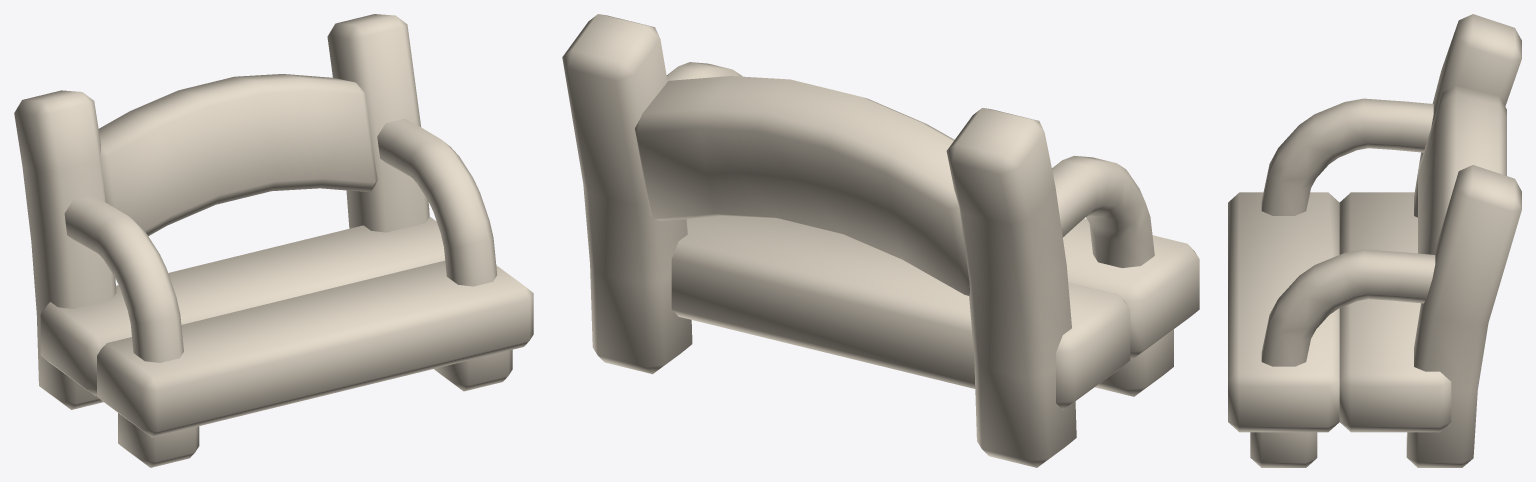
File: bench_A.glb
3 views of the same model, side by side, from view 1: azimuth 30°, elevation 25°; view 2: azimuth 150°, elevation 25°; view 3: azimuth 270°, elevation 25° (orthographic). The views are drawn at different scales.
Parts seen in each view (by area): view 1: bench_A; view 2: bench_A; view 3: bench_A.
Boxes of the visible parts, x1,y1,x2,y2 form: bench_A: (14, 14, 533, 467); bench_A: (562, 14, 1199, 467); bench_A: (1228, 14, 1521, 467).
Size of the model in its own units: 2 by 1.41 by 1.32.
